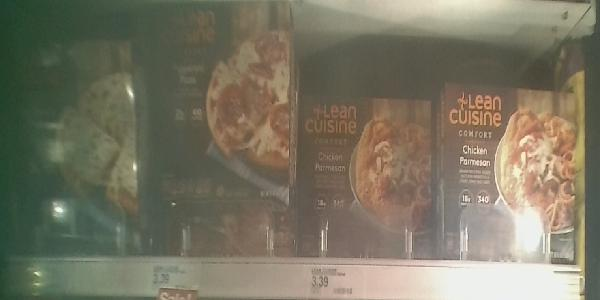pizza1: (1, 26, 161, 255), (162, 23, 295, 258), (443, 82, 579, 265), (302, 96, 437, 260)
